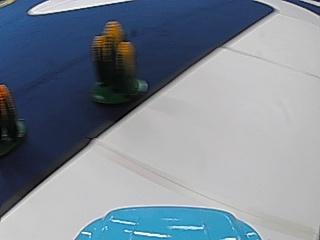corn: (89, 17, 144, 108), (0, 86, 25, 154)
